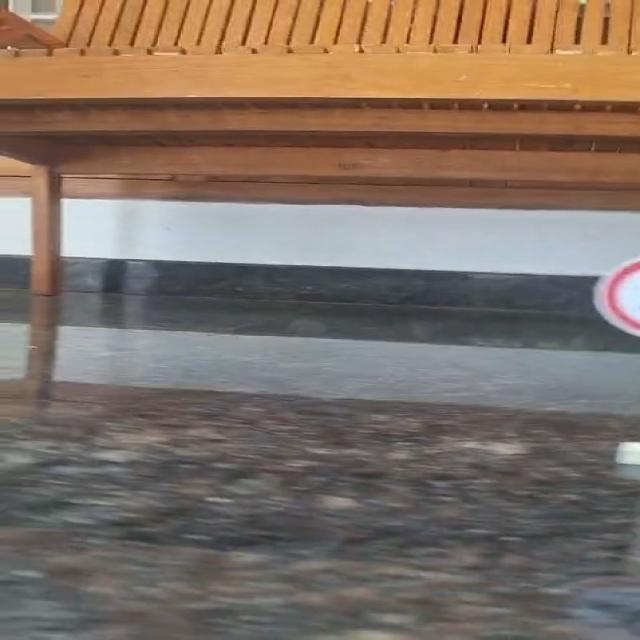Reject: (583, 250, 640, 340)
